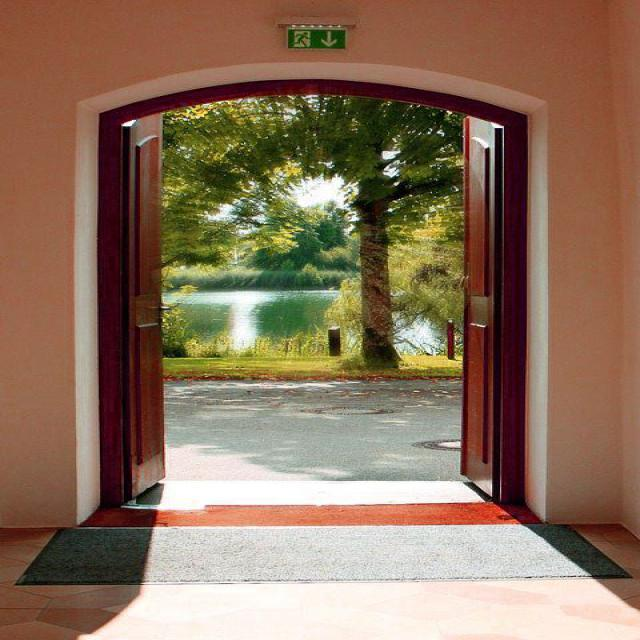door: (71, 65, 547, 530)
